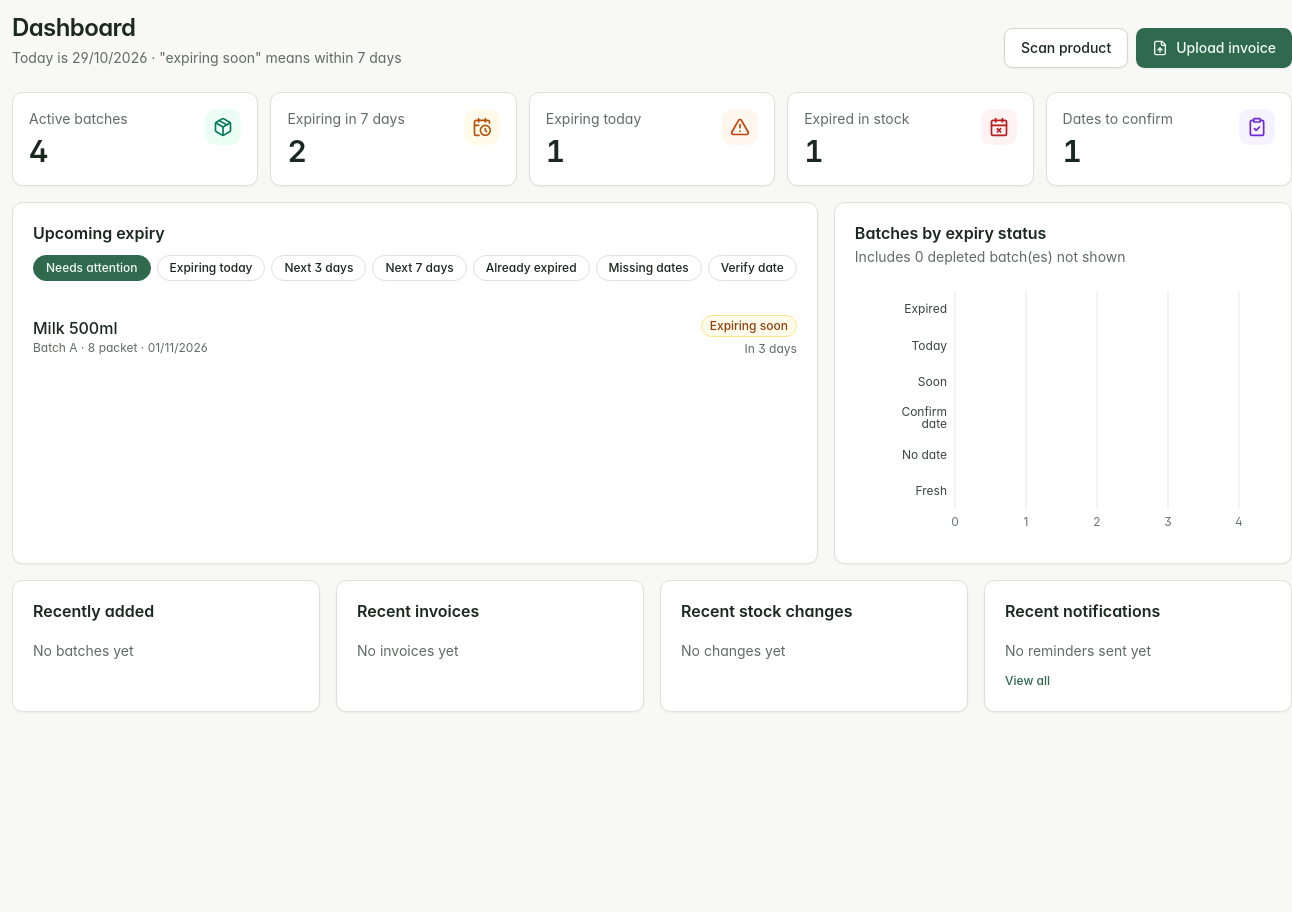
Test case: dashboard › shows real counts and the upcoming expiry list with filters
Expected: the text "Milk 500ml" is shown, [33,318,117,338]
Expected: the text "In 3 days" is shown, [745,341,797,357]
Click the tab "Already expired" at {"x": 531, "y": 268}, box [473,255,590,281]
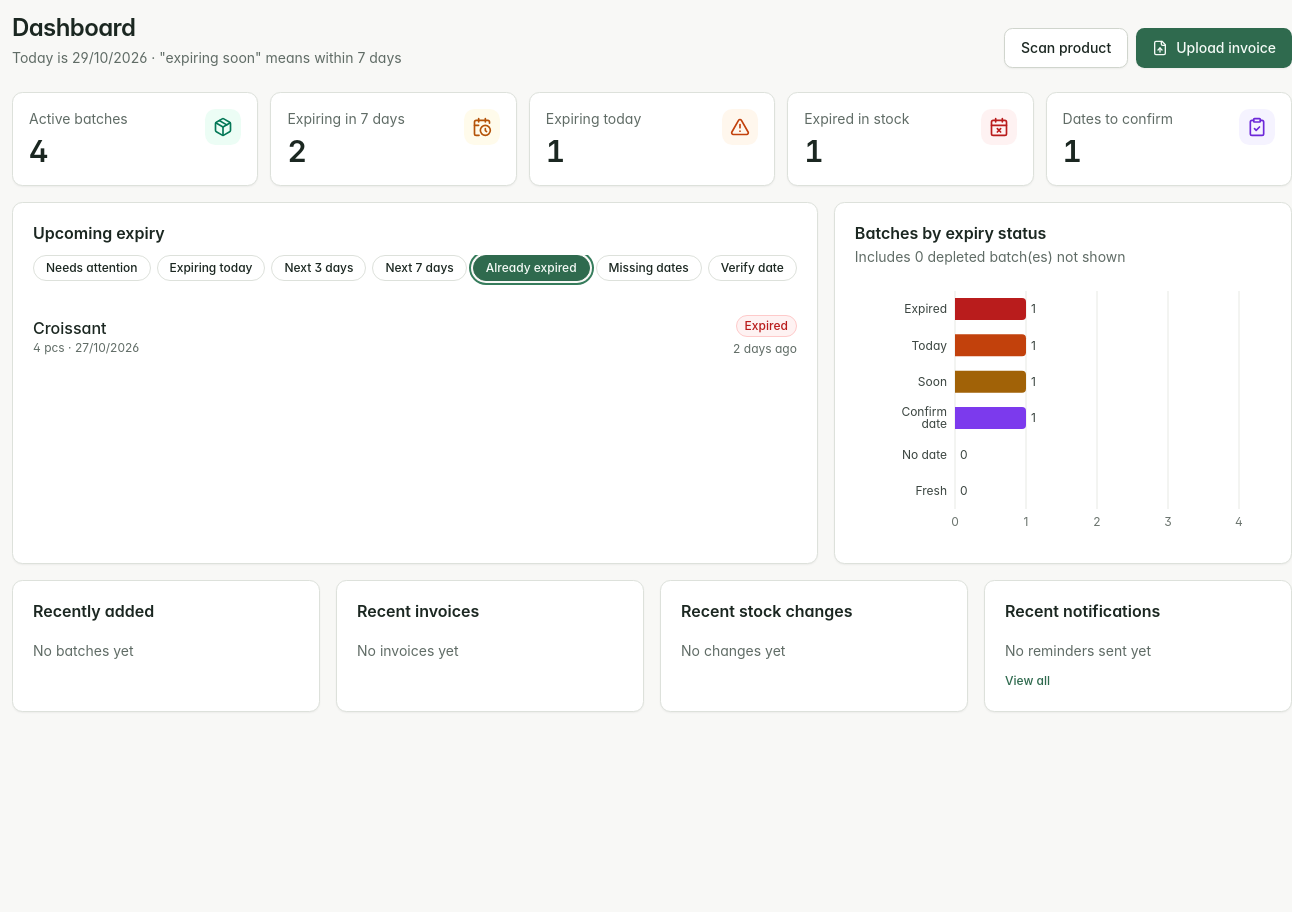
Expected: the text "Croissant" is shown, [33,318,106,338]
